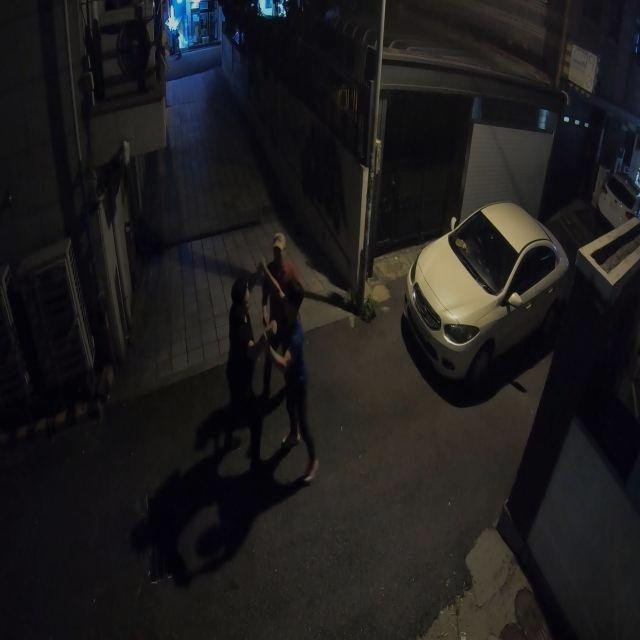fight: (218, 242, 318, 487)
